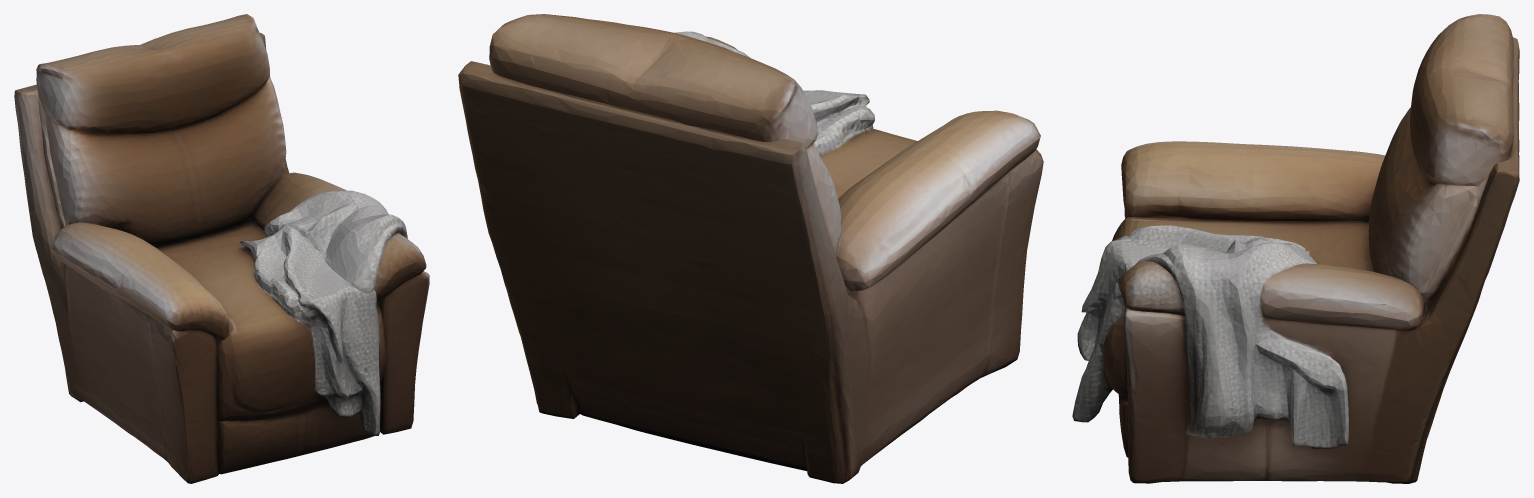
3 views of the same model, side by side, from view 1: azimuth 30°, elevation 25°; view 2: azimuth 150°, elevation 25°; view 3: azimuth 270°, elevation 25° (orthographic). The views are drawn at different scales.
Parts seen in each view (by area): view 1: world; view 2: world; view 3: world.
Part boxes in pixels (x1=…): world: x1=14, y1=14, x2=429, y2=483; world: x1=458, y1=14, x2=1043, y2=483; world: x1=1072, y1=14, x2=1519, y2=483.
Size of the model in its own units: 0.4997 by 0.5162 by 0.588.
1 material, 1 textured.
